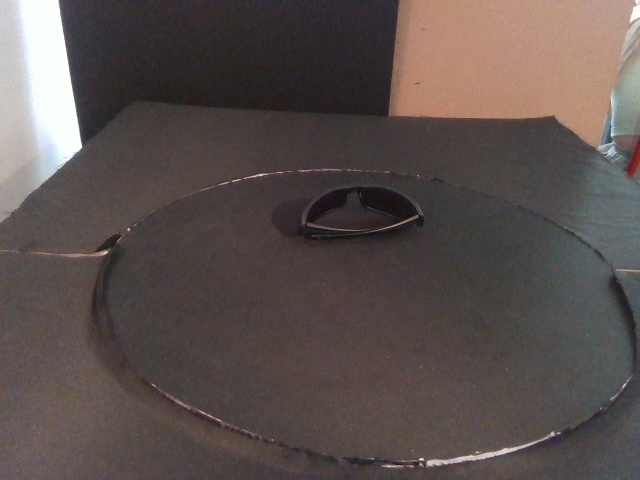glasses: (297, 179, 425, 241)
